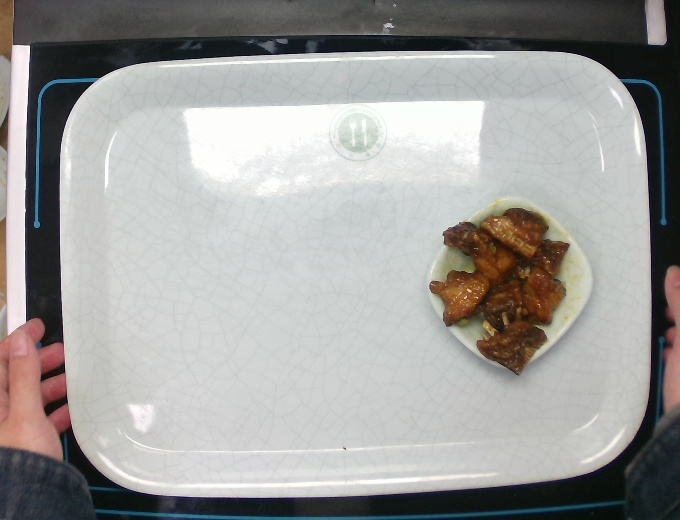JYsf-Si_Fang_Die: (408, 186, 608, 387)
